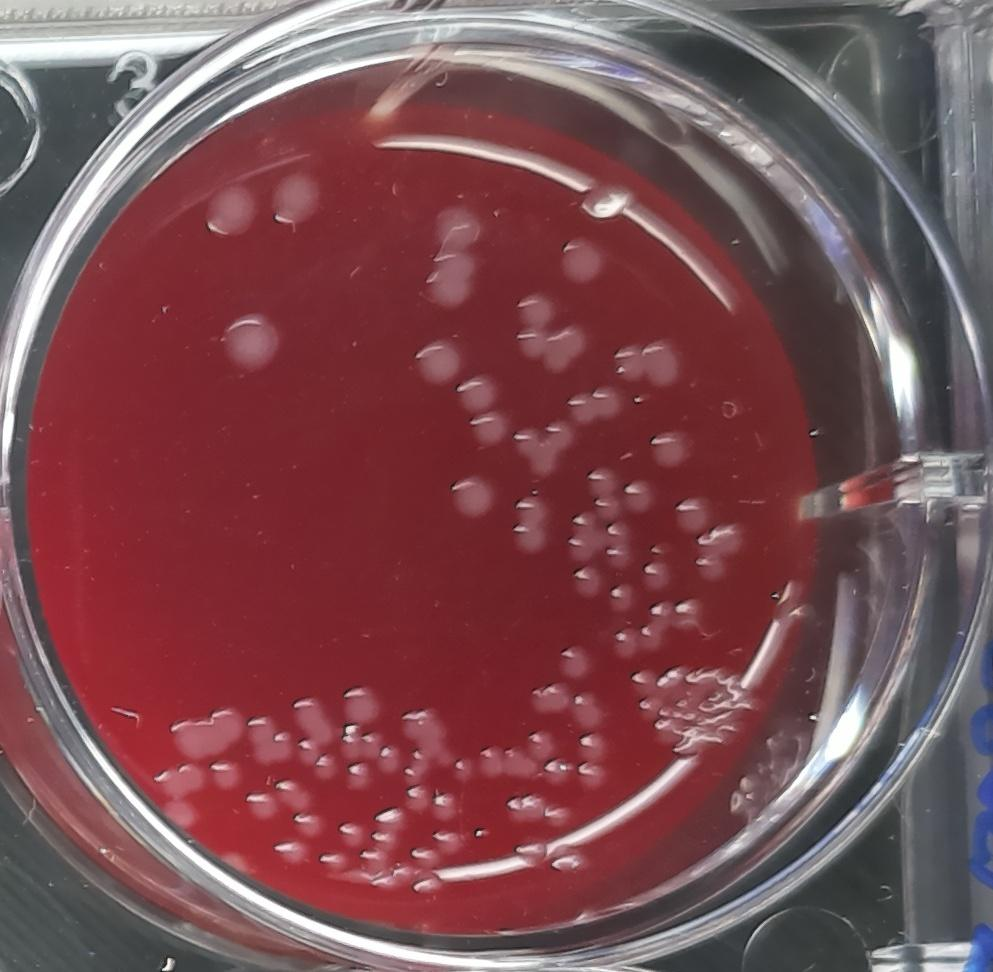pdpiscicida: (215, 306, 282, 377), (398, 707, 452, 785), (265, 168, 327, 232), (170, 705, 246, 757), (614, 336, 680, 390), (692, 522, 746, 583), (359, 806, 405, 876), (513, 418, 570, 474), (428, 249, 478, 312), (340, 722, 397, 777), (514, 288, 553, 358), (411, 337, 461, 388), (510, 493, 551, 555), (246, 713, 293, 767), (430, 201, 480, 250), (560, 234, 608, 285), (565, 385, 623, 425), (447, 474, 496, 521), (292, 693, 333, 747), (649, 595, 706, 632), (545, 325, 588, 374), (648, 426, 695, 469), (338, 681, 382, 726), (565, 509, 602, 562), (611, 622, 663, 658), (456, 371, 497, 416), (295, 738, 338, 779), (602, 520, 634, 573), (470, 410, 511, 448), (674, 495, 710, 536), (571, 690, 606, 732), (529, 680, 569, 715), (640, 557, 676, 593), (275, 775, 310, 811), (242, 789, 280, 822), (558, 644, 592, 680), (208, 757, 244, 791), (290, 807, 328, 839), (505, 745, 538, 781), (507, 793, 544, 825), (623, 478, 655, 515), (573, 730, 608, 763), (586, 466, 619, 500), (543, 757, 574, 793), (271, 834, 308, 864), (574, 761, 608, 793), (431, 826, 465, 858), (430, 792, 463, 823), (345, 760, 376, 793), (608, 581, 641, 612), (410, 844, 442, 874), (528, 725, 557, 758), (318, 847, 349, 877), (574, 567, 603, 597), (335, 819, 365, 847), (479, 744, 503, 776), (595, 493, 622, 520), (453, 757, 476, 782)
